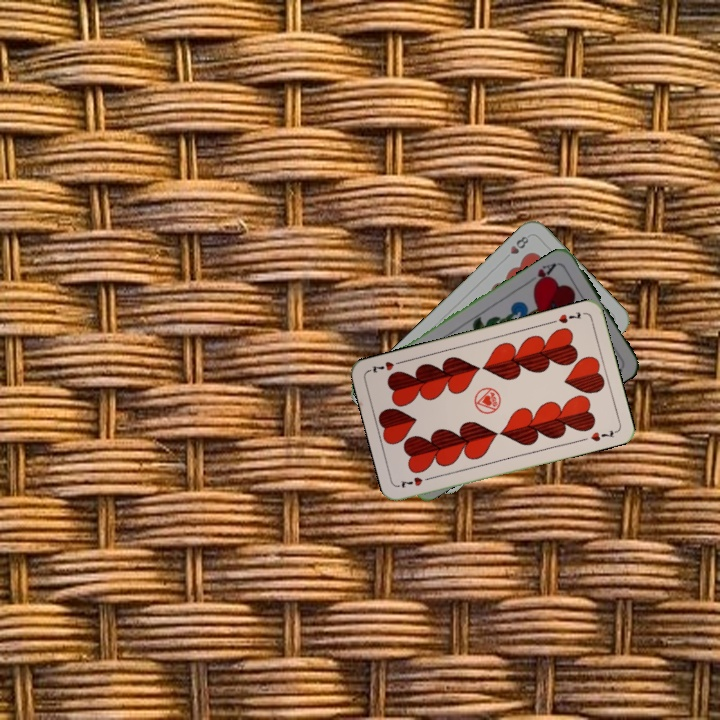H7: (395, 473, 435, 490), (547, 308, 583, 326)
H8: (500, 232, 531, 263)
HA: (530, 259, 559, 289)
